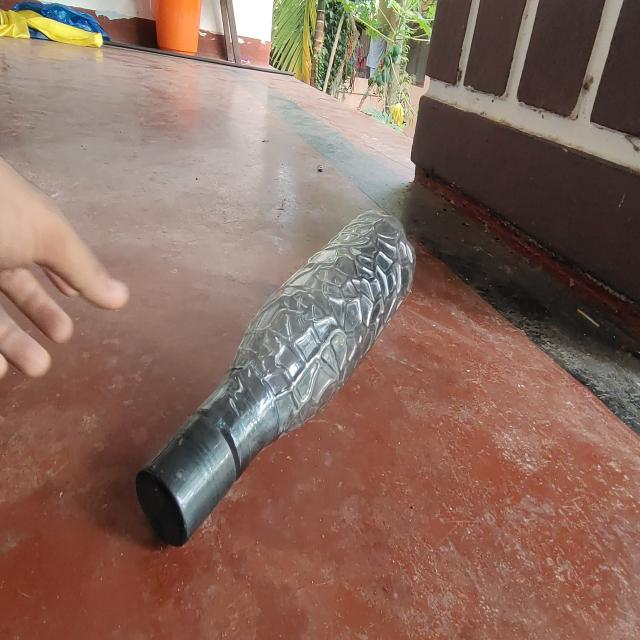plastic: (134, 210, 414, 548)
